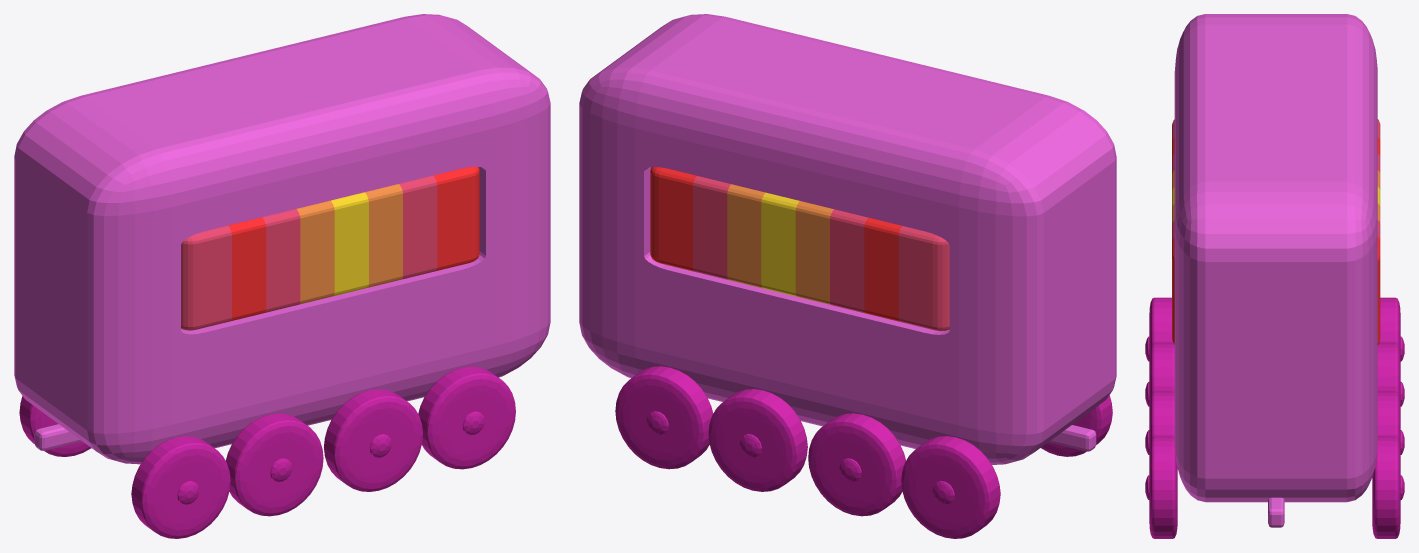
File: wagons_vocoder.glb
The picture shows the model from 3 angles, left to right: view 1: azimuth 30°, elevation 25°; view 2: azimuth 150°, elevation 25°; view 3: azimuth 270°, elevation 25°; orthographic projection.
Parts seen in each view (by area): view 1: wagon_vocoder, wagon_vocoder_vitre, roue.023, roue.026, roue.022, roue.027, roue.021; view 2: wagon_vocoder, wagon_vocoder_vitre, roue.024, roue.021, roue.025, roue.020, roue.026; view 3: wagon_vocoder, roue.022, roue.025, wagon_vocoder_vitre, roue.027, roue.023, roue.020, roue.024, roue.026, roue.021.
Boxes of the visible parts, bbox=[...] form: wagon_vocoder: bbox=[14, 14, 550, 464]; wagon_vocoder_vitre: bbox=[181, 166, 479, 330]; roue.023: bbox=[324, 389, 422, 491]; roue.026: bbox=[131, 436, 230, 538]; roue.022: bbox=[418, 366, 515, 469]; roue.027: bbox=[226, 413, 323, 516]; roue.021: bbox=[19, 396, 91, 456]; wagon_vocoder: bbox=[579, 14, 1116, 464]; wagon_vocoder_vitre: bbox=[650, 167, 949, 331]; roue.024: bbox=[708, 389, 807, 491]; roue.021: bbox=[901, 436, 1000, 538]; roue.025: bbox=[615, 366, 713, 469]; roue.020: bbox=[808, 413, 905, 516]; roue.026: bbox=[1041, 395, 1112, 456]; wagon_vocoder: bbox=[1174, 14, 1377, 527]; roue.022: bbox=[1145, 436, 1177, 538]; roue.025: bbox=[1372, 436, 1404, 538]; wagon_vocoder_vitre: bbox=[1172, 119, 1380, 344]; roue.027: bbox=[1145, 342, 1174, 406]; roue.023: bbox=[1145, 391, 1174, 454]; roue.020: bbox=[1377, 342, 1404, 406]; roue.024: bbox=[1377, 391, 1404, 454]; roue.026: bbox=[1145, 297, 1172, 361]; roue.021: bbox=[1379, 297, 1404, 361].
Bounding box in the file's own units: 52.1 × 37.37 × 23.8.
